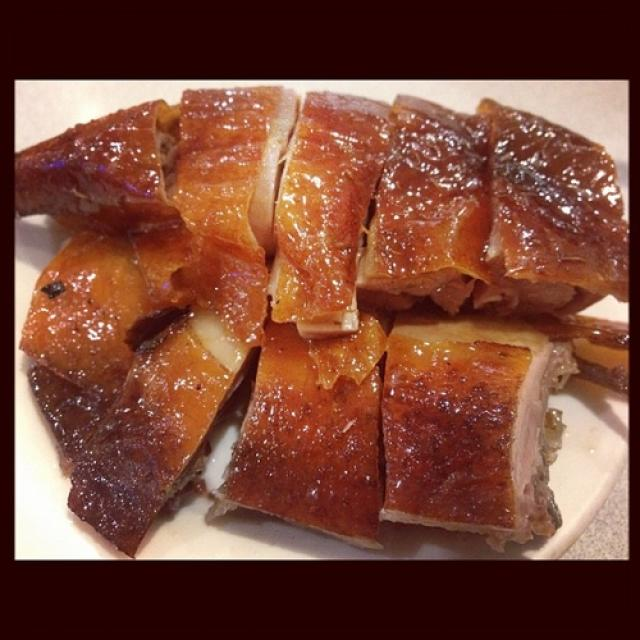烧串烤肉: (19, 77, 626, 540)
